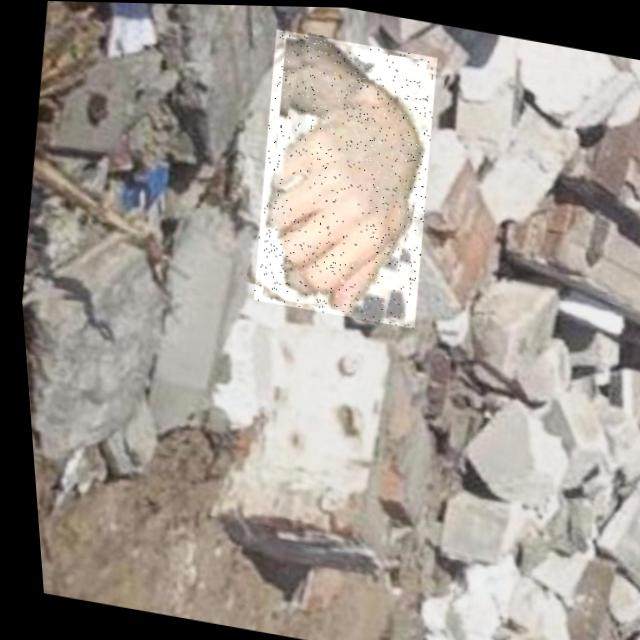Person in Rubble: (232, 27, 452, 328)
